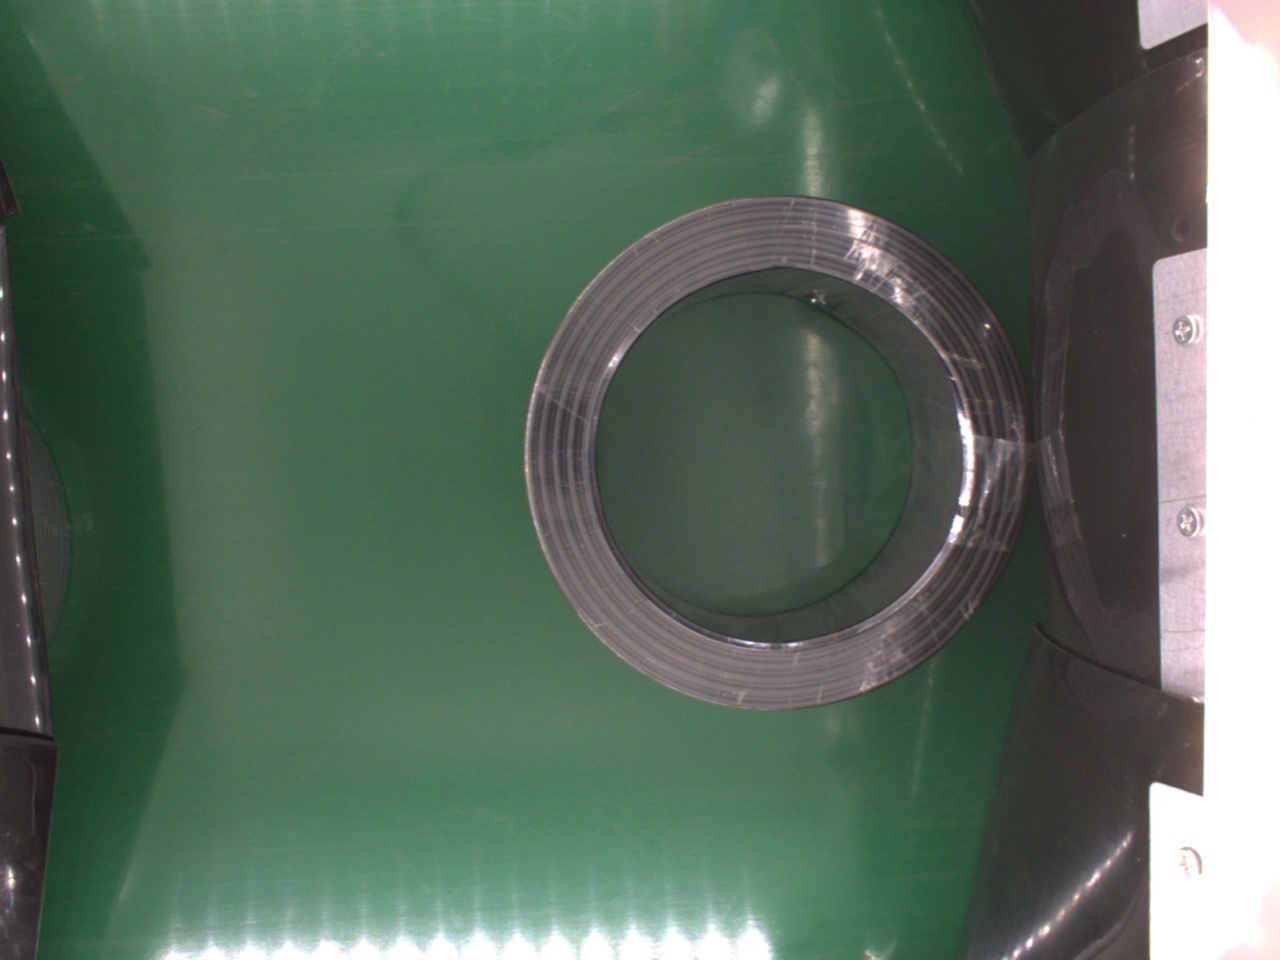black: (521, 197, 1024, 708)
